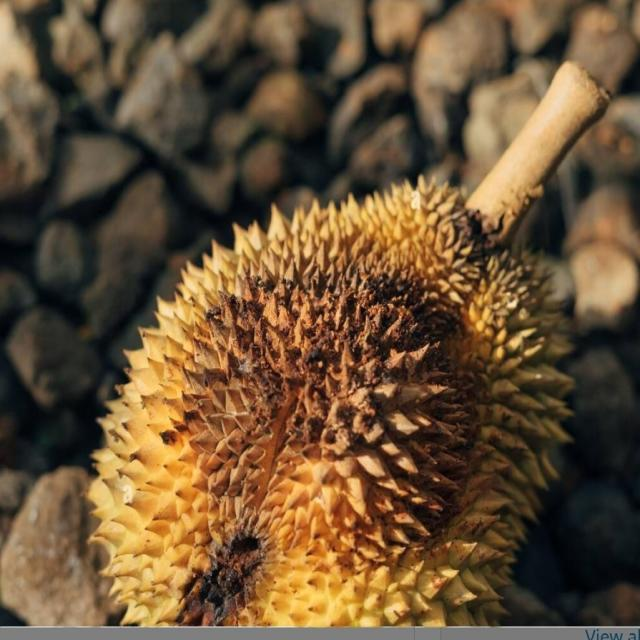defective: (88, 172, 574, 624)
